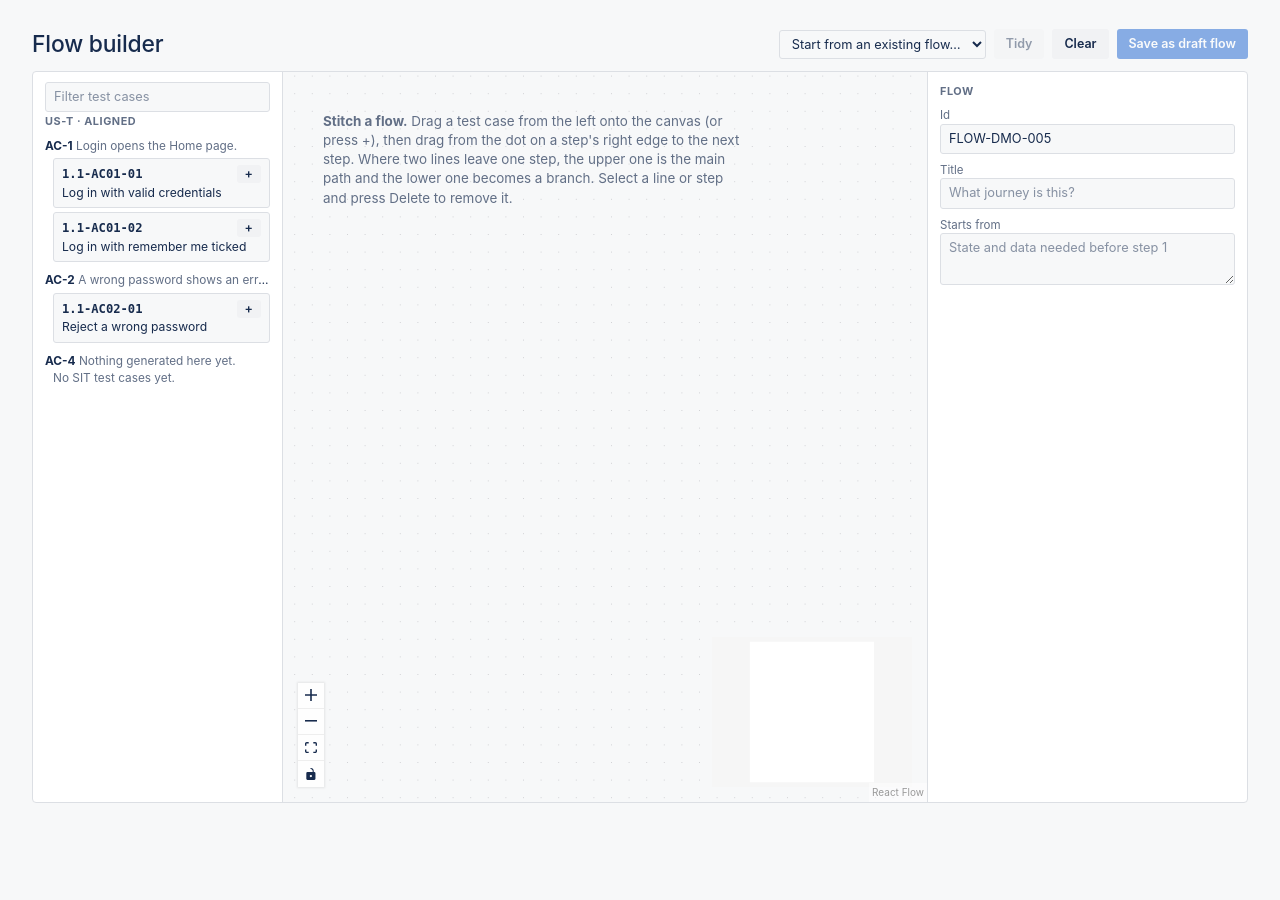
FlowBuilderPage › pressing + chains test cases into a journey; each seeds its own end state
What coordinates should you click on to do the following:
click the button named "Add 1.1-AC01-01"
I would click on:
 (249, 174)
Its box is [237,166,261,183].
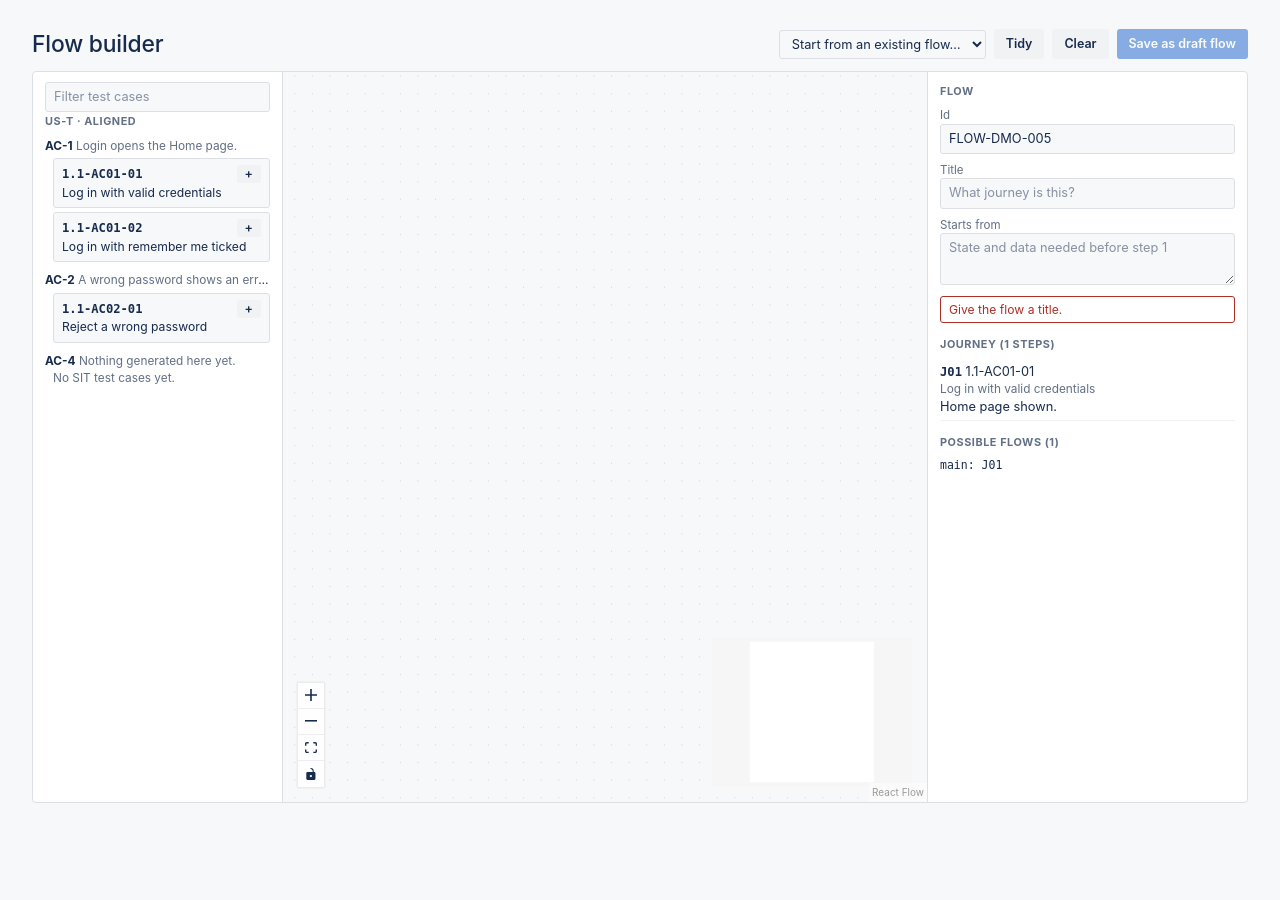
What coordinates should you click on to do the following:
click the button "+" next to "1.1-AC02-01"
I would click on:
 (249, 309)
Its box is [237,300,261,318].
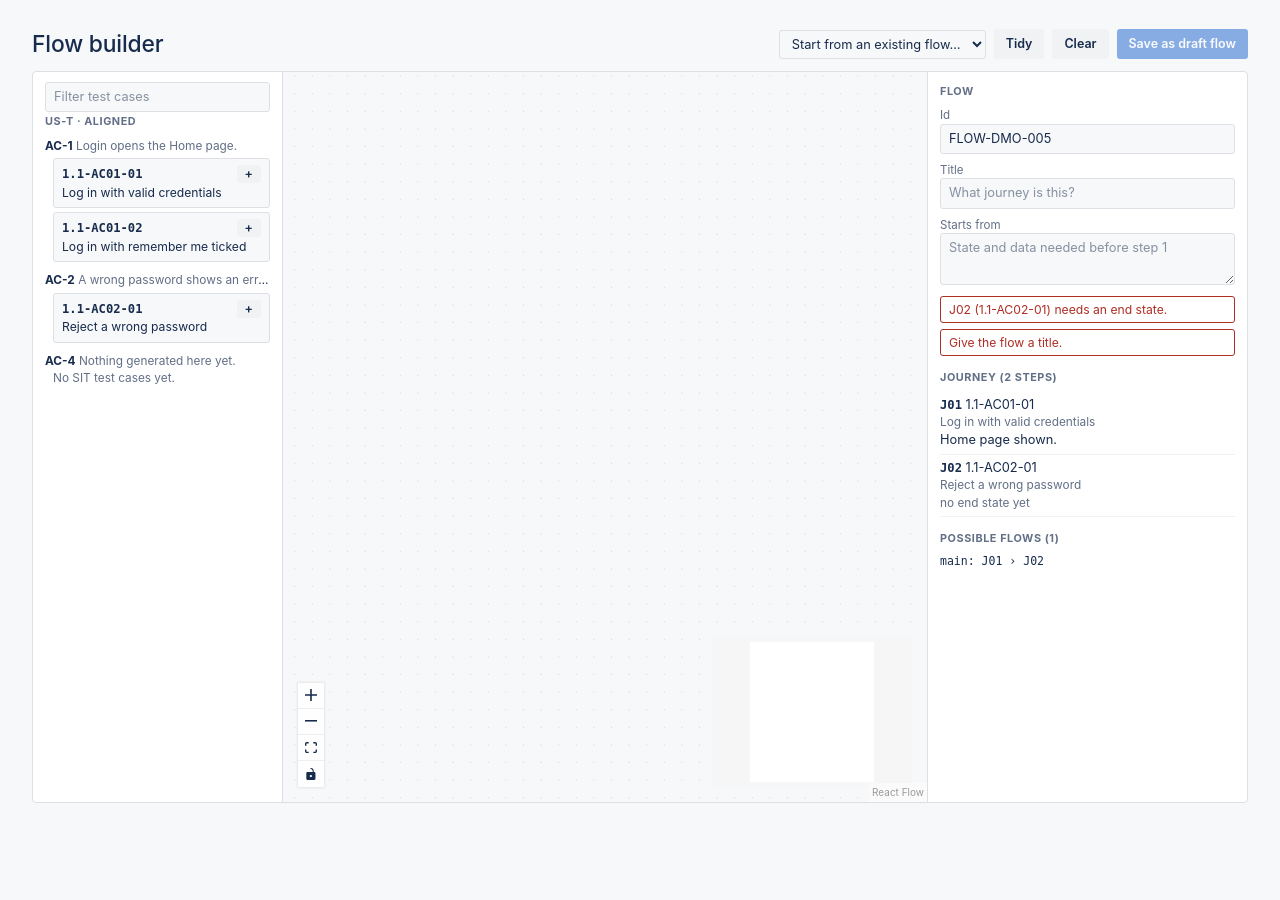
Expected: the text "Home page shown." is shown, [940,432,1057,447]
Expected: the text "Log in with valid credentials" below "Journey (" is shown, [940,415,1095,429]
Expected: the text "Journey (2 steps)" is shown, [940,370,1057,384]
